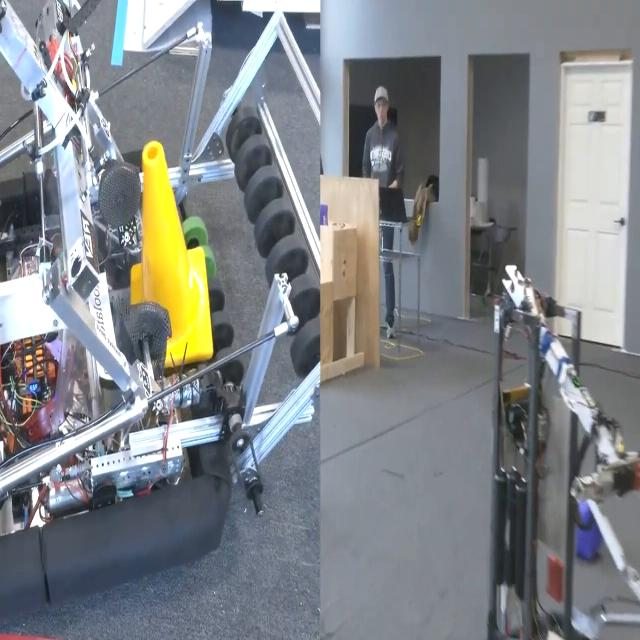frc_cone: (134, 141, 209, 369)
frc_cube: (573, 490, 609, 571), (319, 200, 327, 227)
